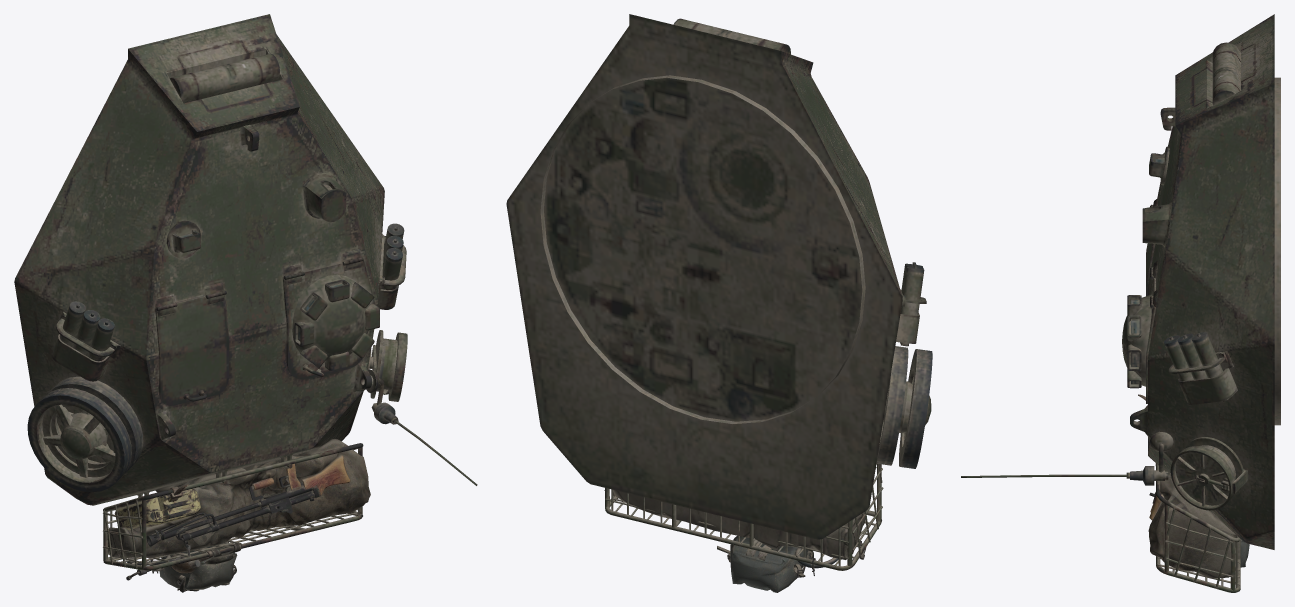
Rendered from Turret_01.glb.
3 renders of one model, left to right at view 1: azimuth 30°, elevation 25°; view 2: azimuth 150°, elevation 25°; view 3: azimuth 270°, elevation 25°, orthographic. The views are drawn at different scales.
Visible parts, largest first — view 1: set_0_group_0, set_0_group_1; view 2: set_0_group_0, set_0_group_1; view 3: set_0_group_0, set_0_group_1.
Boxes of the visible parts, x1,y1,x2,y2 form: set_0_group_0: [14, 14, 477, 570]; set_0_group_1: [107, 439, 370, 592]; set_0_group_0: [506, 14, 932, 570]; set_0_group_1: [613, 463, 876, 592]; set_0_group_0: [961, 14, 1280, 592]; set_0_group_1: [1138, 394, 1249, 578].
Size of the model in its own units: 2.44 by 3.3 by 1.81.
2 materials, 2 textured.
